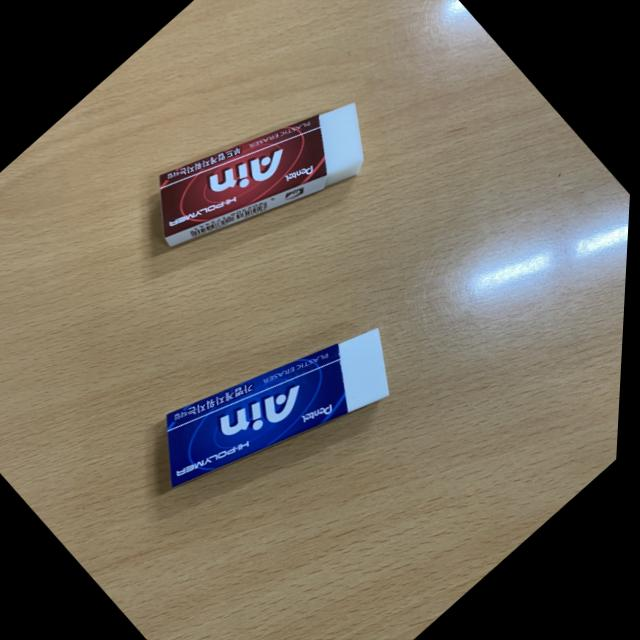blue: (128, 267, 430, 552)
red: (123, 40, 404, 305)
